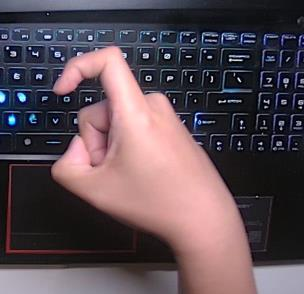anticlockwise: (49, 44, 224, 247)
